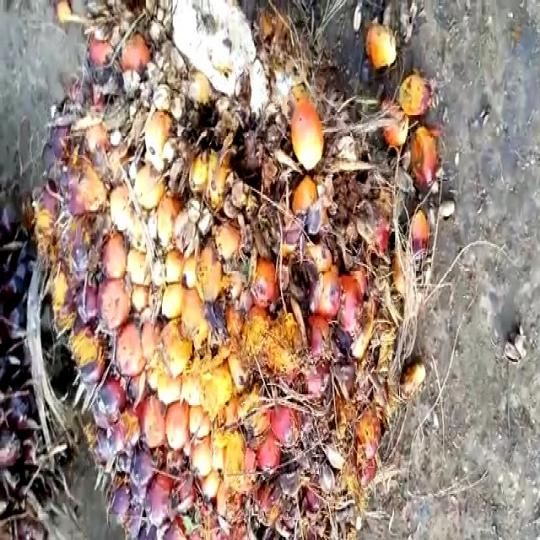masak: (34, 0, 472, 536)
